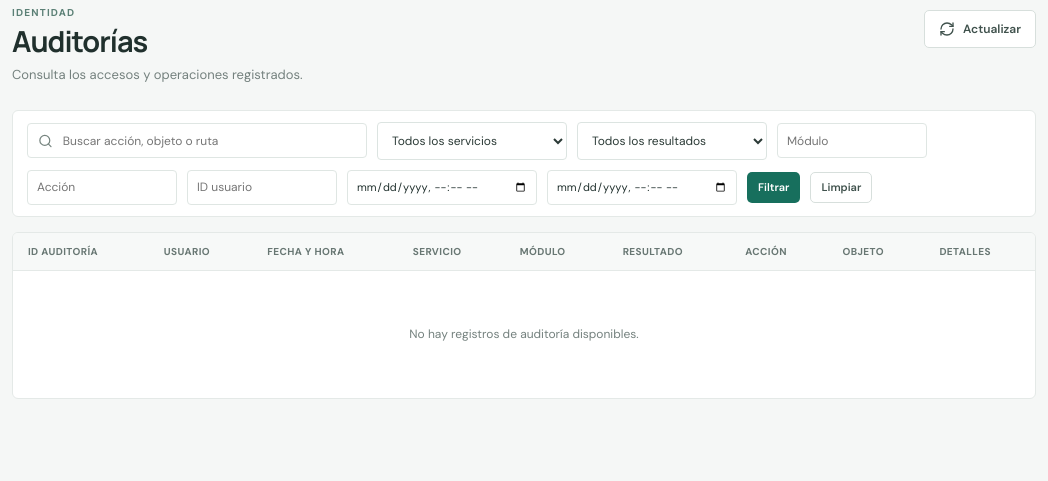
AuditPage › shows empty and error states without write actions
The width and height of the screenshot is (1048, 481).
expect the text "No hay registros de auditoría disponibles." is shown: met, box [13, 270, 1035, 398]
Click the button "Actualizar" at (980, 29), box [924, 10, 1036, 48]
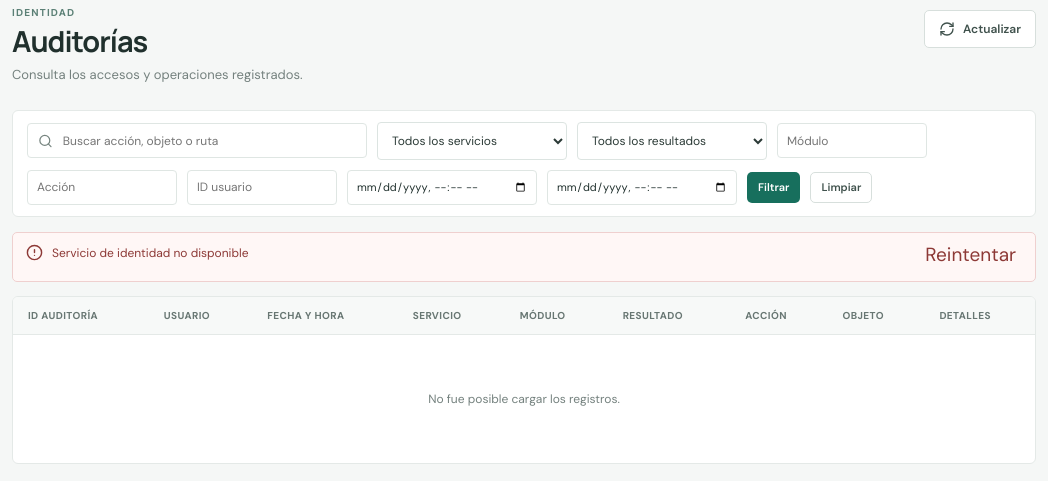
expect the text "Servicio de identidad no disponible" is shown: met, box [52, 244, 248, 262]
